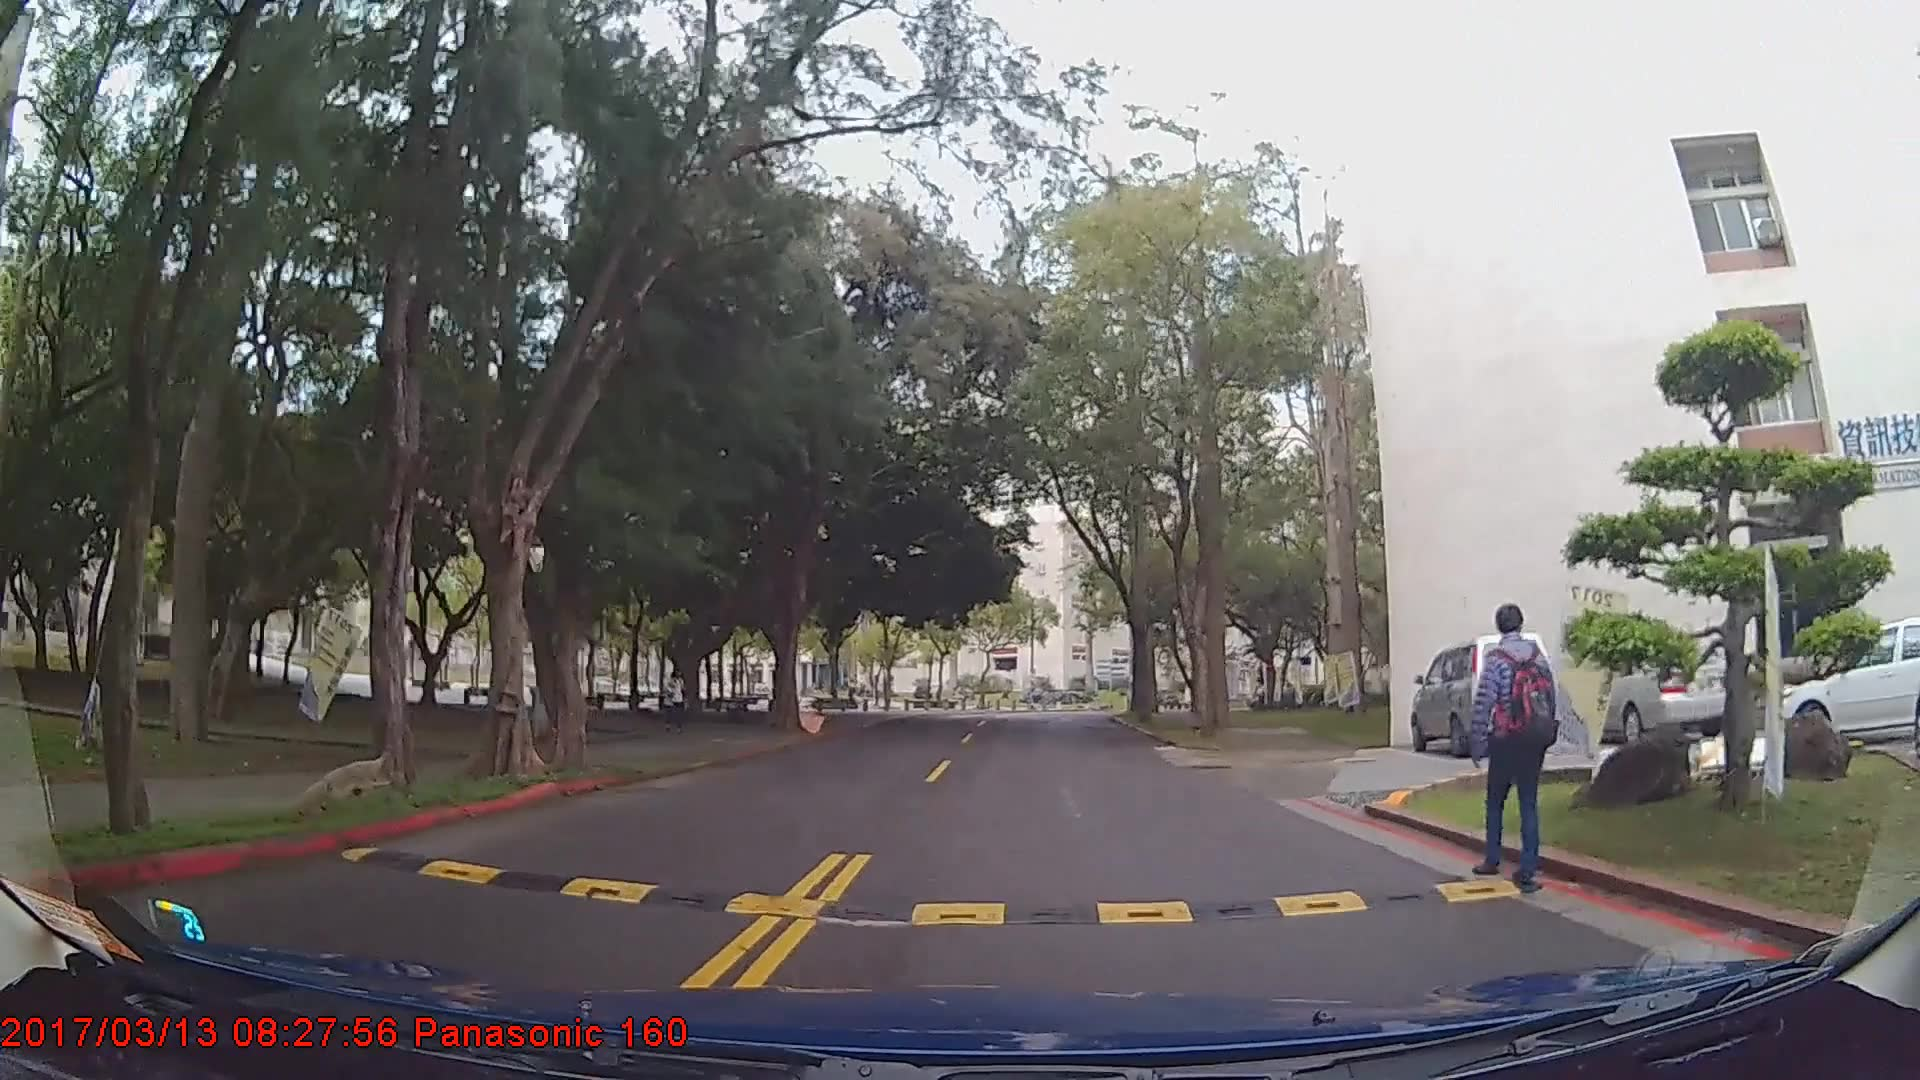pedestrian: (1471, 603, 1556, 890), (662, 666, 692, 735)
vehicle: (1769, 619, 1920, 747), (1410, 633, 1552, 754)
